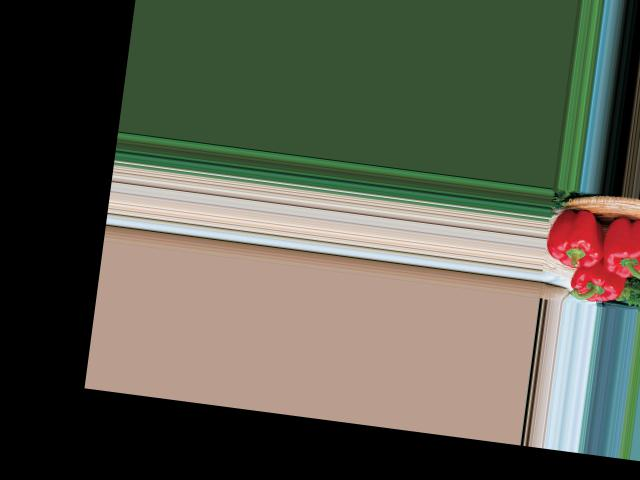bell_pepper: (592, 206, 640, 281)
